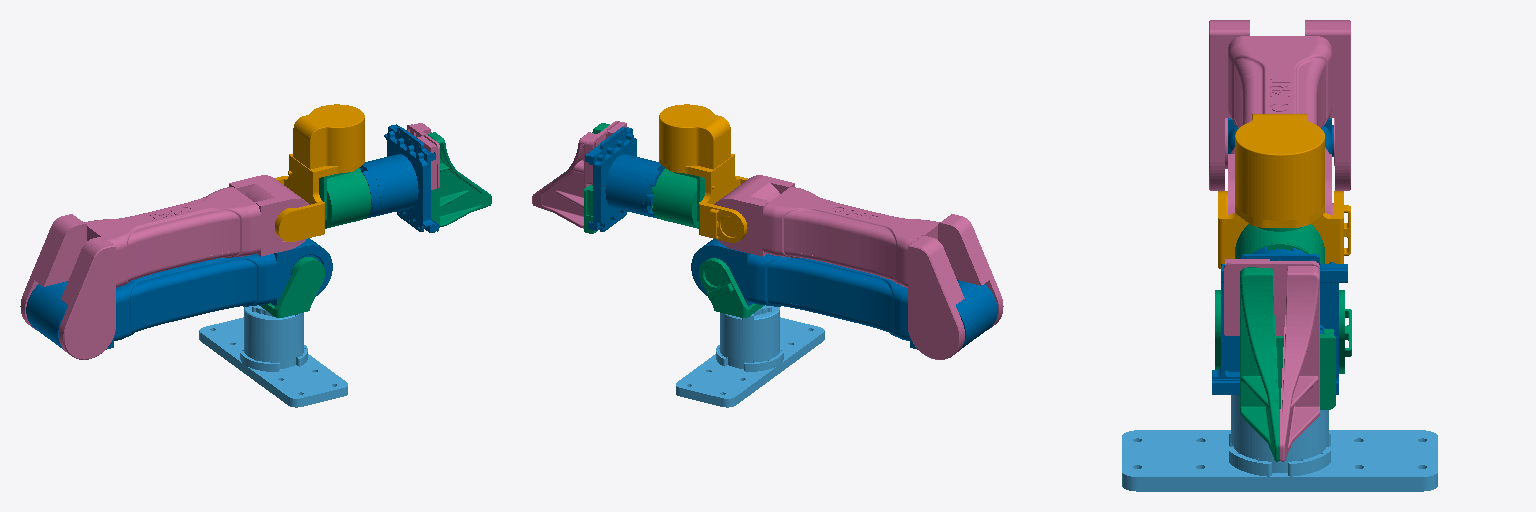
robot.urdf — yam:
<?xml version="1.0" ?>
<!-- =================================================================================== -->
<!-- |    This document was autogenerated by xacro from yam.urdf.xacro                 | -->
<!-- |    EDITING THIS FILE BY HAND IS NOT RECOMMENDED                                 | -->
<!-- =================================================================================== -->
<robot name="yam">
  <!-- World link -->
  <link name="world">
    <inertial>
      <origin rpy="0.0 0.0 0.0" xyz="0.0 0.0 0.0"/>
      <mass value="0.0"/>
      <inertia ixx="0.0" ixy="0" ixz="0" iyy="0.0" iyz="0" izz="0.0"/>
    </inertial>
  </link>
  <!-- Arm base link -->
  <link name="arm">
    <inertial>
      <origin rpy="0.0 0.0 0.0" xyz="0.0 0.0 0.026"/>
      <mass value="0.21895644158459424"/>
      <inertia ixx="0.00013879124248906134" ixy="0" ixz="0" iyy="0.00013879124248906134" iyz="0" izz="0.00010282878735692499"/>
    </inertial>
    <visual name="model2">
      <origin rpy="1.5701130102263443 0.005344186766801151 -3.1414365496107033" xyz="-2.0738360577213484e-05 2.041311002275178e-05 0.01154286287615687"/>
      <geometry>
        <mesh filename="package://yam_arm_description/meshes/converted_model2_808080ff.obj"/>
      </geometry>
    </visual>
    <collision name="model2_collision">
      <origin rpy="1.5701130102263443 0.005344186766801151 -3.1414365496107033" xyz="-2.0738360577213484e-05 2.041311002275178e-05 0.01154286287615687"/>
      <geometry>
        <mesh filename="package://yam_arm_description/meshes/converted_model2_808080ff.obj"/>
      </geometry>
    </collision>
  </link>
  <joint name="parent2arm_fixed" type="fixed">
    <parent link="world"/>
    <child link="arm"/>
    <origin rpy="0.0 0.0 0.0" xyz="0.0 0.0 0.0"/>
  </joint>
  <!-- Link 1 -->
  <link name="link_1">
    <inertial>
      <origin rpy="1.6743480392523338 -0.6015439689011491 1.5666873963753192" xyz="-0.00192861 -0.00795735 0.0208176"/>
      <mass value="0.12415"/>
      <inertia ixx="0.000180751" ixy="0" ixz="0" iyy="0.000145532" iyz="0" izz="5.89179e-05"/>
    </inertial>
    <visual name="model2__2">
      <origin rpy="1.5650454550240567 -0.6317582807873867 1.5710673633815686" xyz="0.0007117901440024366 -0.008267794027987337 0.022250179687008112"/>
      <geometry>
        <mesh filename="package://yam_arm_description/meshes/converted_model2__2_808080ff.obj"/>
      </geometry>
    </visual>
    <collision name="model2__2_collision">
      <origin rpy="1.5650454550240567 -0.6317582807873867 1.5710673633815686" xyz="0.0007117901440024366 -0.008267794027987337 0.022250179687008112"/>
      <geometry>
        <mesh filename="package://yam_arm_description/meshes/converted_model2__2_808080ff.obj"/>
      </geometry>
    </collision>
  </link>
  <link name="joint1_link">
    <inertial>
      <origin rpy="0.0 0.0 0.0" xyz="0.0 0.0 0.0"/>
      <mass value="0.001"/>
      <inertia ixx="1e-09" ixy="0" ixz="0" iyy="1e-09" iyz="0" izz="1e-09"/>
    </inertial>
  </link>
  <joint name="joint1" type="revolute">
    <parent link="arm"/>
    <child link="joint1_link"/>
    <origin rpy="0.0 0.0 1.5707963267948963" xyz="0.0 0.0 0.0631"/>
    <axis xyz="0.0 0.0 1.0"/>
    <limit effort="100" lower="-2.61799" upper="3.05433" velocity="100"/>
  </joint>
  <joint name="joint1_offset" type="fixed">
    <parent link="joint1_link"/>
    <child link="link_1"/>
    <origin rpy="0.0 0.0 0.0" xyz="-0.0 -0.0 -0.0"/>
  </joint>
  <!-- Link 2 -->
  <link name="link_2">
    <inertial>
      <origin rpy="1.5707963267948966 0.0 1.5707963267948966" xyz="0.132008 2.10599e-06 0.000293073"/>
      <mass value="1.24434"/>
      <inertia ixx="0.0121902" ixy="0" ixz="0" iyy="0.0121318" iyz="0" izz="0.000683304"/>
    </inertial>
    <visual name="model2__3">
      <origin rpy="0.0012886015838013758 0.0 1.5707963267948966" xyz="0.26007948449650414 2.5977632368834325e-07 0.00022869283697025413"/>
      <geometry>
        <mesh filename="package://yam_arm_description/meshes/converted_model2__3_808080ff.obj"/>
      </geometry>
    </visual>
    <collision name="model2__3_collision">
      <origin rpy="0.0012886015838013758 0.0 1.5707963267948966" xyz="0.26007948449650414 2.5977632368834325e-07 0.00022869283697025413"/>
      <geometry>
        <mesh filename="package://yam_arm_description/meshes/converted_model2__3_808080ff.obj"/>
      </geometry>
    </collision>
    <visual name="model2__4">
      <origin rpy="-0.0012886020855807743 0.0 1.5707963267948966" xyz="0.003920561027152974 2.5977629421192194e-07 0.00022869282878015162"/>
      <geometry>
        <mesh filename="package://yam_arm_description/meshes/converted_model2__4_808080ff.obj"/>
      </geometry>
    </visual>
    <collision name="model2__4_collision">
      <origin rpy="-0.0012886020855807743 0.0 1.5707963267948966" xyz="0.003920561027152974 2.5977629421192194e-07 0.00022869282878015162"/>
      <geometry>
        <mesh filename="package://yam_arm_description/meshes/converted_model2__4_808080ff.obj"/>
      </geometry>
    </collision>
    <visual name="model2__5">
      <origin rpy="1.5720341600620127 -1.5679213575591051 -1.5720413321413815" xyz="0.1320117461361114 -1.306943646950387e-05 9.079293692478702e-08"/>
      <geometry>
        <mesh filename="package://yam_arm_description/meshes/converted_model2__5_808080ff.obj"/>
      </geometry>
    </visual>
    <collision name="model2__5_collision">
      <origin rpy="1.5720341600620127 -1.5679213575591051 -1.5720413321413815" xyz="0.1320117461361114 -1.306943646950387e-05 9.079293692478702e-08"/>
      <geometry>
        <mesh filename="package://yam_arm_description/meshes/converted_model2__5_808080ff.obj"/>
      </geometry>
    </collision>
  </link>
  <link name="joint2_link">
    <inertial>
      <origin rpy="0.0 0.0 0.0" xyz="0.0 0.0 0.0"/>
      <mass value="0.001"/>
      <inertia ixx="1e-09" ixy="0" ixz="0" iyy="1e-09" iyz="0" izz="1e-09"/>
    </inertial>
  </link>
  <joint name="joint2" type="revolute">
    <parent link="link_1"/>
    <child link="joint2_link"/>
    <origin rpy="1.5707963267948966 0.0 1.5707963267948966" xyz="2.5e-05 -0.02 0.0409"/>
    <axis xyz="0.0 0.0 1.0"/>
    <limit effort="300" lower="-1.0e-03" upper="3.66519" velocity="100"/>
  </joint>
  <joint name="joint2_offset" type="fixed">
    <parent link="joint2_link"/>
    <child link="link_2"/>
    <origin rpy="0.0 0.0 0.0" xyz="-0.0 -0.0 -0.0"/>
  </joint>
  <!-- Link 3 -->
  <link name="link_3">
    <inertial>
      <origin rpy="1.5707963267948966 0.0 1.5707963267948966" xyz="-0.121816 -0.054846 -0.000111108"/>
      <mass value="0.853698"/>
      <inertia ixx="0.00699732" ixy="0" ixz="0" iyy="0.00696112" iyz="0" izz="0.000788244"/>
    </inertial>
    <visual name="model2__6">
      <origin rpy="3.0364915071378875 0.0 -1.5707963267948968" xyz="-0.24063976713274154 -0.059999782142154706 -0.003760273578300405"/>
      <geometry>
        <mesh filename="package://yam_arm_description/meshes/converted_model2__6_808080ff.obj"/>
      </geometry>
    </visual>
    <collision name="model2__6_collision">
      <origin rpy="3.0364915071378875 0.0 -1.5707963267948968" xyz="-0.24063976713274154 -0.059999782142154706 -0.003760273578300405"/>
      <geometry>
        <mesh filename="package://yam_arm_description/meshes/converted_model2__6_808080ff.obj"/>
      </geometry>
    </collision>
    <visual name="model2__7">
      <origin rpy="-2.87879006743723 1.4720957652931421 1.6013719605643306" xyz="-0.007710009148021196 -0.03486048010433765 0.0347071645682882"/>
      <geometry>
        <mesh filename="package://yam_arm_description/meshes/converted_model2__7_808080ff.obj"/>
      </geometry>
    </visual>
    <collision name="model2__7_collision">
      <origin rpy="-2.87879006743723 1.4720957652931421 1.6013719605643306" xyz="-0.007710009148021196 -0.03486048010433765 0.0347071645682882"/>
      <geometry>
        <mesh filename="package://yam_arm_description/meshes/converted_model2__7_808080ff.obj"/>
      </geometry>
    </collision>
    <visual name="model2__8">
      <origin rpy="1.5707945314613085 0.0026832997041226214 -1.570809065297576" xyz="-0.1206720859561709 -0.06001334031535149 5.408345552423209e-07"/>
      <geometry>
        <mesh filename="package://yam_arm_description/meshes/converted_model2__8_808080ff.obj"/>
      </geometry>
    </visual>
    <collision name="model2__8_collision">
      <origin rpy="1.5707945314613085 0.0026832997041226214 -1.570809065297576" xyz="-0.1206720859561709 -0.06001334031535149 5.408345552423209e-07"/>
      <geometry>
        <mesh filename="package://yam_arm_description/meshes/converted_model2__8_808080ff.obj"/>
      </geometry>
    </collision>
    <visual name="model2__9">
      <origin rpy="0.28836143122615043 1.443690062944695 -1.515041718980295" xyz="-0.008240431625057998 -0.03737256683266851 -0.033699619180835645"/>
      <geometry>
        <mesh filename="package://yam_arm_description/meshes/converted_model2__9_808080ff.obj"/>
      </geometry>
    </visual>
    <collision name="model2__9_collision">
      <origin rpy="0.28836143122615043 1.443690062944695 -1.515041718980295" xyz="-0.008240431625057998 -0.03737256683266851 -0.033699619180835645"/>
      <geometry>
        <mesh filename="package://yam_arm_description/meshes/converted_model2__9_808080ff.obj"/>
      </geometry>
    </collision>
  </link>
  <link name="joint3_link">
    <inertial>
      <origin rpy="0.0 0.0 0.0" xyz="0.0 0.0 0.0"/>
      <mass value="0.001"/>
      <inertia ixx="1e-09" ixy="0" ixz="0" iyy="1e-09" iyz="0" izz="1e-09"/>
    </inertial>
  </link>
  <joint name="joint3" type="revolute">
    <parent link="link_2"/>
    <child link="joint3_link"/>
    <origin rpy="3.141592653589793 0.0 0.0" xyz="0.264 0.0 0.0"/>
    <axis xyz="0.0 0.0 1.0"/>
    <limit effort="300" lower="-1.0e-03" upper="3.66519" velocity="100"/>
  </joint>
  <joint name="joint3_offset" type="fixed">
    <parent link="joint3_link"/>
    <child link="link_3"/>
    <origin rpy="0.0 0.0 0.0" xyz="-0.0 -0.0 -0.0"/>
  </joint>
  <!-- Link 4 -->
  <link name="link_4">
    <inertial>
      <origin rpy="1.5707963267948966 0.0 -0.6801532411309218" xyz="-0.0769778 -0.0527104 0.000154878"/>
      <mass value="0.463511"/>
      <inertia ixx="0.000791532" ixy="0" ixz="0" iyy="0.000744733" iyz="0" izz="0.000282116"/>
    </inertial>
    <visual name="model2__10">
      <origin rpy="1.5394854457020648 0.021662003917252814 -0.7117475435376935" xyz="-0.046776068687813616 -0.038270471745625256 -0.0008915243508352188"/>
      <geometry>
        <mesh filename="package://yam_arm_description/meshes/converted_model2__10_808080ff.obj"/>
      </geometry>
    </visual>
    <collision name="model2__10_collision">
      <origin rpy="1.5394854457020648 0.021662003917252814 -0.7117475435376935" xyz="-0.046776068687813616 -0.038270471745625256 -0.0008915243508352188"/>
      <geometry>
        <mesh filename="package://yam_arm_description/meshes/converted_model2__10_808080ff.obj"/>
      </geometry>
    </collision>
  </link>
  <link name="joint4_link">
    <inertial>
      <origin rpy="0.0 0.0 0.0" xyz="0.0 0.0 0.0"/>
      <mass value="0.001"/>
      <inertia ixx="1e-09" ixy="0" ixz="0" iyy="1e-09" iyz="0" izz="1e-09"/>
    </inertial>
  </link>
  <joint name="joint4" type="revolute">
    <parent link="link_3"/>
    <child link="joint4_link"/>
    <origin rpy="0.0 0.0 0.0" xyz="-0.245 -0.06 0.0"/>
    <axis xyz="0.0 0.0 1.0"/>
    <limit effort="100" lower="-1.5708" upper="1.5708" velocity="100"/>
  </joint>
  <joint name="joint4_offset" type="fixed">
    <parent link="joint4_link"/>
    <child link="link_4"/>
    <origin rpy="0.0 0.0 0.0" xyz="-0.0 -0.0 -0.0"/>
  </joint>
  <!-- Link 5 -->
  <link name="link_5">
    <inertial>
      <origin rpy="0.0 0.0 0.0" xyz="3.64861e-05 0.00025665 0.0353526"/>
      <mass value="0.350962"/>
      <inertia ixx="0.000197802" ixy="0" ixz="0" iyy="0.0001775" iyz="0" izz="0.000147402"/>
    </inertial>
    <visual name="model2__11">
      <origin rpy="2.67318045036048 0.0016544870659682687 -0.01152938218496731" xyz="5.815639855540116e-05 -0.0005553836621680353 0.03206235288381598"/>
      <geometry>
        <mesh filename="package://yam_arm_description/meshes/converted_model2__11_808080ff.obj"/>
      </geometry>
    </visual>
    <collision name="model2__11_collision">
      <origin rpy="2.67318045036048 0.0016544870659682687 -0.01152938218496731" xyz="5.815639855540116e-05 -0.0005553836621680353 0.03206235288381598"/>
      <geometry>
        <mesh filename="package://yam_arm_description/meshes/converted_model2__11_808080ff.obj"/>
      </geometry>
    </collision>
  </link>
  <link name="joint5_link">
    <inertial>
      <origin rpy="0.0 0.0 0.0" xyz="0.0 0.0 0.0"/>
      <mass value="0.001"/>
      <inertia ixx="1e-09" ixy="0" ixz="0" iyy="1e-09" iyz="0" izz="1e-09"/>
    </inertial>
  </link>
  <joint name="joint5" type="revolute">
    <parent link="link_4"/>
    <child link="joint5_link"/>
    <origin rpy="-1.5707963267948966 1.5707963267948966 0.0" xyz="-0.074 -0.0395 2.5e-05"/>
    <axis xyz="0.0 0.0 1.0"/>
    <limit effort="100" lower="-1.5708" upper="1.5708" velocity="100"/>
  </joint>
  <joint name="joint5_offset" type="fixed">
    <parent link="joint5_link"/>
    <child link="link_5"/>
    <origin rpy="0.0 0.0 0.0" xyz="-0.0 -0.0 -0.0"/>
  </joint>
  <!-- Link 6 -->
  <link name="link_6">
    <inertial>
      <origin rpy="1.5707963267948963 0.0 0.0" xyz="-0.000217767 7.37059e-05 0.0270545"/>
      <mass value="0.367476"/>
      <inertia ixx="0.000265958" ixy="0" ixz="0" iyy="0.000242686" iyz="0" izz="0.000227409"/>
    </inertial>
    <visual name="model2__12">
      <origin rpy="-1.7453668887584697 1.565490971850807 -1.9699125405676954" xyz="8.788302043375991e-05 0.0001190912220788709 0.05116721790419726"/>
      <geometry>
        <mesh filename="package://yam_arm_description/meshes/converted_model2__12_808080ff.obj"/>
      </geometry>
    </visual>
    <collision name="model2__12_collision">
      <origin rpy="-1.7453668887584697 1.565490971850807 -1.9699125405676954" xyz="8.788302043375991e-05 0.0001190912220788709 0.05116721790419726"/>
      <geometry>
        <mesh filename="package://yam_arm_description/meshes/converted_model2__12_808080ff.obj"/>
      </geometry>
    </collision>
    <visual name="model2__13">
      <origin rpy="-1.5799559470247646 0.8170286688385331 -0.14641337505452354" xyz="-0.00017825474995774047 1.6195054943213272e-05 0.03422382038141725"/>
      <geometry>
        <mesh filename="package://yam_arm_description/meshes/converted_model2__13_808080ff.obj"/>
      </geometry>
    </visual>
    <collision name="model2__13_collision">
      <origin rpy="-1.5799559470247646 0.8170286688385331 -0.14641337505452354" xyz="-0.00017825474995774047 1.6195054943213272e-05 0.03422382038141725"/>
      <geometry>
        <mesh filename="package://yam_arm_description/meshes/converted_model2__13_808080ff.obj"/>
      </geometry>
    </collision>
  </link>
  <link name="joint6_link">
    <inertial>
      <origin rpy="0.0 0.0 0.0" xyz="0.0 0.0 0.0"/>
      <mass value="0.001"/>
      <inertia ixx="1e-09" ixy="0" ixz="0" iyy="1e-09" iyz="0" izz="1e-09"/>
    </inertial>
  </link>
  <joint name="joint6" type="revolute">
    <parent link="link_5"/>
    <child link="joint6_link"/>
    <origin rpy="-1.5707963267948963 0.0 0.0" xyz="0.0 0.0353 0.0395"/>
    <axis xyz="0.0 0.0 1.0"/>
    <limit effort="100" lower="-2.0944" upper="2.0944" velocity="100"/>
  </joint>
  <joint name="joint6_offset" type="fixed">
    <parent link="joint6_link"/>
    <child link="link_6"/>
    <origin rpy="0.0 0.0 0.0" xyz="-0.0 -0.0 -0.0"/>
  </joint>
  <!-- Gripper: Left Finger -->
  <link name="link_left_finger">
    <inertial>
      <origin rpy="1.401155911297378 -0.506095322833723 -0.42940521230428" xyz="-0.0192995 -0.0365902 0.039774"/>
      <mass value="0.118"/>
      <inertia ixx="0.000159084" ixy="0" ixz="0" iyy="0.000154909" iyz="0" izz="4.63655e-05"/>
    </inertial>
    <visual name="model2__14">
      <origin rpy="1.2436149090470108 -1.3351755324428634 3.1192068678405445" xyz="-0.02621919095860112 -0.050961301789609365 0.04847966761952425"/>
      <geometry>
        <mesh filename="package://yam_arm_description/meshes/converted_model2__14_808080ff.obj"/>
      </geometry>
    </visual>
    <collision name="model2__14_collision">
      <origin rpy="1.2436149090470108 -1.3351755324428634 3.1192068678405445" xyz="-0.02621919095860112 -0.050961301789609365 0.04847966761952425"/>
      <geometry>
        <mesh filename="package://yam_arm_description/meshes/converted_model2__14_808080ff.obj"/>
      </geometry>
    </collision>
    <visual name="model2__15">
      <origin rpy="-0.08499655397451025 -0.08210615684708134 0.012014286826329146" xyz="-0.0018267628293356375 -0.014013453565219658 0.02860778296204746"/>
      <geometry>
        <mesh filename="package://yam_arm_description/meshes/converted_model2__15_808080ff.obj"/>
      </geometry>
    </visual>
    <collision name="model2__15_collision">
      <origin rpy="-0.08499655397451025 -0.08210615684708134 0.012014286826329146" xyz="-0.0018267628293356375 -0.014013453565219658 0.02860778296204746"/>
      <geometry>
        <mesh filename="package://yam_arm_description/meshes/converted_model2__15_808080ff.obj"/>
      </geometry>
    </collision>
  </link>
  <link name="left_finger_link">
    <inertial>
      <origin rpy="0.0 0.0 0.0" xyz="0.0 0.0 0.0"/>
      <mass value="0.001"/>
      <inertia ixx="1e-09" ixy="0" ixz="0" iyy="1e-09" iyz="0" izz="1e-09"/>
    </inertial>
  </link>
  <joint name="left_finger" type="prismatic">
    <parent link="link_6"/>
    <child link="left_finger_link"/>
    <origin rpy="-0.0 1.5707963267948966 0.0" xyz="-0.037 0.0392 0.0605"/>
    <axis xyz="0.0 0.0 1.0"/>
    <limit effort="100" lower="-0.00205" upper="0.037524" velocity="100"/>
  </joint>
  <joint name="left_finger_offset" type="fixed">
    <parent link="left_finger_link"/>
    <child link="link_left_finger"/>
    <origin rpy="0.0 0.0 0.0" xyz="-0.0 -0.0 -0.0"/>
  </joint>
  <link name="lf_rot">
    <inertial>
      <origin rpy="2.03719733945046 0.34503462898803194 1.5781769326774222" xyz="-0.008421052631578949 -0.015789473684210527 0.020421052631578947"/>
      <mass value="0.039793506945470715"/>
      <inertia ixx="2.3910376870188726e-05" ixy="0" ixz="0" iyy="2.0730203360923295e-05" iyz="0" izz="5.660176249101842e-06"/>
    </inertial>
  </link>
  <joint name="link_left_finger2lf_rot_fixed" type="fixed">
    <parent link="link_left_finger"/>
    <child link="lf_rot"/>
    <origin rpy="-1.5707963267948966 0.0 1.5707963267948966" xyz="0.0 -0.0392 0.037"/>
  </joint>
  <link name="lf_down">
    <inertial>
      <origin rpy="0.25192924677866 0.2603701692584921 1.7911531458129852" xyz="0.004865675005941529 -0.012786258560154471 0.029346031921652322"/>
      <mass value="0.02077574023677297"/>
      <inertia ixx="1.5767067212852193e-05" ixy="0" ixz="0" iyy="1.3071054583294231e-05" iyz="0" izz="3.94367471938606e-06"/>
    </inertial>
  </link>
  <joint name="lf_rot2lf_down_fixed" type="fixed">
    <parent link="lf_rot"/>
    <child link="lf_down"/>
    <origin rpy="0.0 0.0 0.0" xyz="-0.044 0.0 0.0"/>
  </joint>
  <!-- Gripper: Right Finger -->
  <link name="link_right_finger">
    <inertial>
      <origin rpy="-1.401155911297378 0.506095322833723 -0.42940521230428" xyz="-0.0192995 0.0365902 -0.039774"/>
      <mass value="0.118"/>
      <inertia ixx="0.000159084" ixy="0" ixz="0" iyy="0.000154909" iyz="0" izz="4.63655e-05"/>
    </inertial>
    <visual name="model2__16">
      <origin rpy="-0.08499624911644794 0.08210615585822456 -0.012014239544932078" xyz="-0.001826763203738313 0.014013021507929144 -0.02860778467768097"/>
      <geometry>
        <mesh filename="package://yam_arm_description/meshes/converted_model2__16_808080ff.obj"/>
      </geometry>
    </visual>
    <collision name="model2__16_collision">
      <origin rpy="-0.08499624911644794 0.08210615585822456 -0.012014239544932078" xyz="-0.001826763203738313 0.014013021507929144 -0.02860778467768097"/>
      <geometry>
        <mesh filename="package://yam_arm_description/meshes/converted_model2__16_808080ff.obj"/>
      </geometry>
    </collision>
    <visual name="model2__17">
      <origin rpy="-1.8906094630983066 -1.338715519977303 -0.013733131456833558" xyz="-0.026152342123741346 0.026813733867866105 -0.04844908896546901"/>
      <geometry>
        <mesh filename="package://yam_arm_description/meshes/converted_model2__17_808080ff.obj"/>
      </geometry>
    </visual>
    <collision name="model2__17_collision">
      <origin rpy="-1.8906094630983066 -1.338715519977303 -0.013733131456833558" xyz="-0.026152342123741346 0.026813733867866105 -0.04844908896546901"/>
      <geometry>
        <mesh filename="package://yam_arm_description/meshes/converted_model2__17_808080ff.obj"/>
      </geometry>
    </collision>
  </link>
  <link name="right_finger_link">
    <inertial>
      <origin rpy="0.0 0.0 0.0" xyz="0.0 0.0 0.0"/>
      <mass value="0.001"/>
      <inertia ixx="1e-09" ixy="0" ixz="0" iyy="1e-09" iyz="0" izz="1e-09"/>
    </inertial>
  </link>
  <joint name="right_finger" type="prismatic">
    <parent link="link_6"/>
    <child link="right_finger_link"/>
    <origin rpy="-0.0 1.5707963267948966 0.0" xyz="0.037 -0.0392 0.0605"/>
    <axis xyz="0.0 0.0 1.0"/>
    <limit effort="100" lower="-0.037524" upper="0.00205" velocity="100"/>
    <mimic joint="left_finger" multiplier="-1" offset="0"/>
  </joint>
  <joint name="right_finger_offset" type="fixed">
    <parent link="right_finger_link"/>
    <child link="link_right_finger"/>
    <origin rpy="0.0 0.0 0.0" xyz="-0.0 -0.0 -0.0"/>
  </joint>
  <link name="rf_rot">
    <inertial>
      <origin rpy="1.1043953141393332 0.34503462898803194 1.563415720912371" xyz="0.008421052631578949 -0.015789473684210527 0.020421052631578947"/>
      <mass value="0.039793506945470715"/>
      <inertia ixx="2.3910376870188726e-05" ixy="0" ixz="0" iyy="2.0730203360923295e-05" iyz="0" izz="5.660176249101842e-06"/>
    </inertial>
  </link>
  <joint name="link_right_finger2rf_rot_fixed" type="fixed">
    <parent link="link_right_finger"/>
    <child link="rf_rot"/>
    <origin rpy="1.5707963267948966 0.0 -1.5707963267948966" xyz="0.0 0.0392 -0.037"/>
  </joint>
  <link name="rf_down">
    <inertial>
      <origin rpy="-0.25192924677866 0.2603701692584921 1.3504395077768079" xyz="-0.004865675005941529 -0.012786258560154471 0.029346031921652322"/>
      <mass value="0.02077574023677297"/>
      <inertia ixx="1.5767067212852193e-05" ixy="0" ixz="0" iyy="1.3071054583294231e-05" iyz="0" izz="3.94367471938606e-06"/>
    </inertial>
  </link>
  <joint name="rf_rot2rf_down_fixed" type="fixed">
    <parent link="rf_rot"/>
    <child link="rf_down"/>
    <origin rpy="0.0 0.0 0.0" xyz="0.044 0.0 0.0"/>
  </joint>
</robot>

--- Render facts (derived) ---
Views: 3 orthographic renders of the robot side by side, from view 1: azimuth 30°, elevation 25°; view 2: azimuth 150°, elevation 25°; view 3: azimuth 270°, elevation 25°.
Model yam with 22 links and 21 joints (6 revolute, 2 prismatic, 13 fixed), rooted at world, posed every joint at zero.
Visible links, largest first — view 1: link_3, link_2, arm, link_4, link_6, link_right_finger, link_5, link_1, link_left_finger; view 2: link_3, link_2, arm, link_4, link_6, link_left_finger, link_5, link_1; view 3: arm, link_3, link_4, link_left_finger, link_right_finger, link_6, link_5, link_1, link_2.
Link boxes in pixels (bbox=[...]): link_3: bbox=[20, 175, 309, 359]; link_2: bbox=[26, 238, 332, 349]; arm: bbox=[199, 305, 347, 407]; link_4: bbox=[275, 104, 364, 241]; link_6: bbox=[359, 124, 438, 232]; link_right_finger: bbox=[428, 132, 491, 227]; link_5: bbox=[319, 168, 370, 228]; link_1: bbox=[259, 257, 324, 317]; link_left_finger: bbox=[407, 123, 479, 189]; link_3: bbox=[714, 175, 1003, 359]; link_2: bbox=[691, 239, 997, 349]; arm: bbox=[676, 305, 824, 407]; link_4: bbox=[659, 104, 747, 242]; link_6: bbox=[585, 127, 664, 231]; link_left_finger: bbox=[532, 121, 626, 228]; link_5: bbox=[652, 168, 704, 228]; link_1: bbox=[699, 258, 764, 317]; arm: bbox=[1122, 395, 1437, 491]; link_3: bbox=[1209, 20, 1350, 214]; link_4: bbox=[1218, 114, 1350, 268]; link_left_finger: bbox=[1224, 259, 1319, 461]; link_right_finger: bbox=[1240, 267, 1335, 461]; link_6: bbox=[1212, 247, 1347, 394]; link_5: bbox=[1235, 224, 1324, 263]; link_1: bbox=[1215, 290, 1351, 373]; link_2: bbox=[1228, 118, 1333, 156].
Size in the robot's own frame: 0.5326 by 0.2 by 0.2665 metres.
Meshes: 17 distinct files referenced, 17 mesh visuals loaded (17 OBJ).